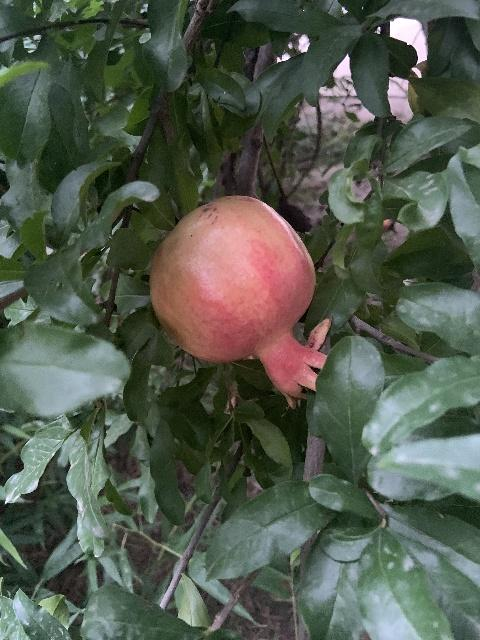ripe: (149, 194, 330, 407)
